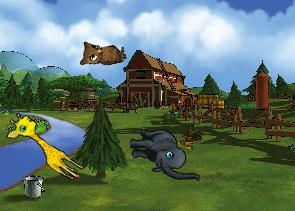elephant: (128, 126, 200, 185)
giraffe: (1, 108, 92, 184)
owl: (76, 33, 127, 70)
